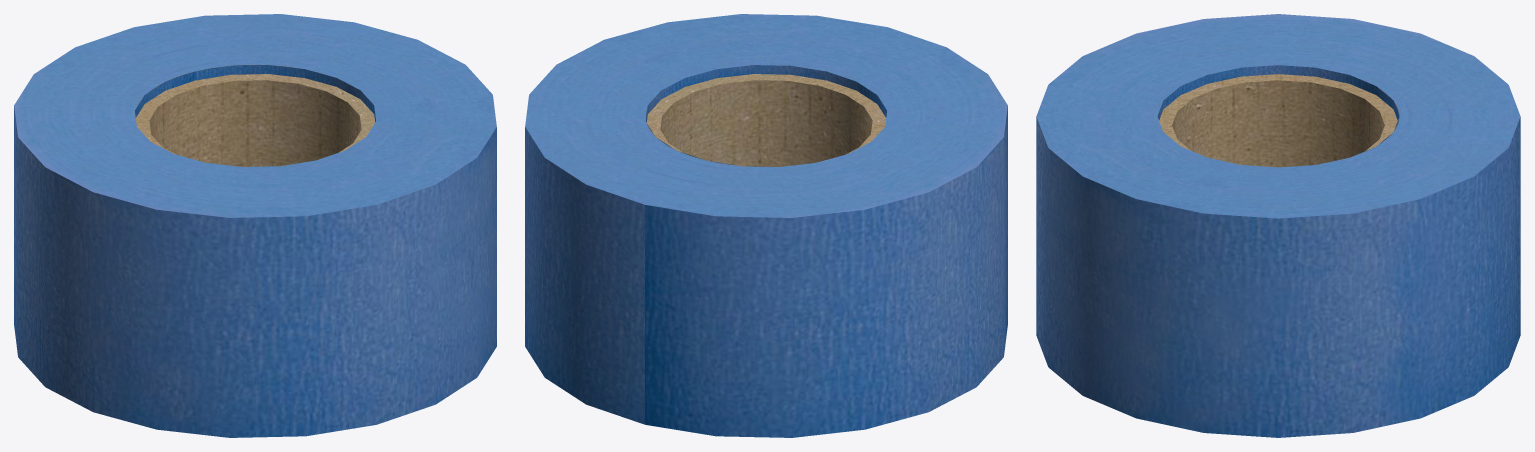
Rendered from Tape.fbx.
3 views of the same model, side by side, from view 1: azimuth 30°, elevation 25°; view 2: azimuth 150°, elevation 25°; view 3: azimuth 270°, elevation 25° (orthographic).
Parts seen in each view (by area): view 1: pPipe1; view 2: pPipe1; view 3: pPipe1.
Part boxes in pixels (x1,y1,x2,y2): pPipe1: [14, 14, 496, 437]; pPipe1: [525, 14, 1007, 437]; pPipe1: [1036, 14, 1520, 437].
Size of the model in its own units: 53.74 by 26.87 by 53.74.
